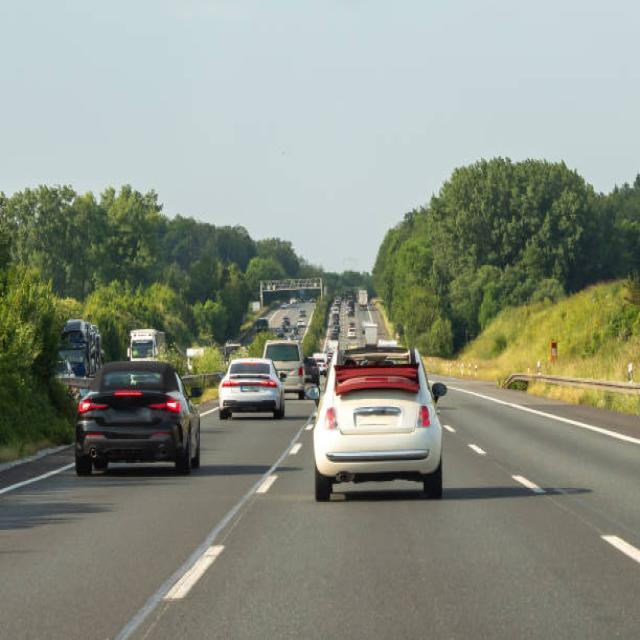Bus: (56, 318, 102, 378), (127, 328, 166, 361)
Car: (312, 342, 446, 501), (73, 358, 201, 476), (217, 356, 286, 420)
